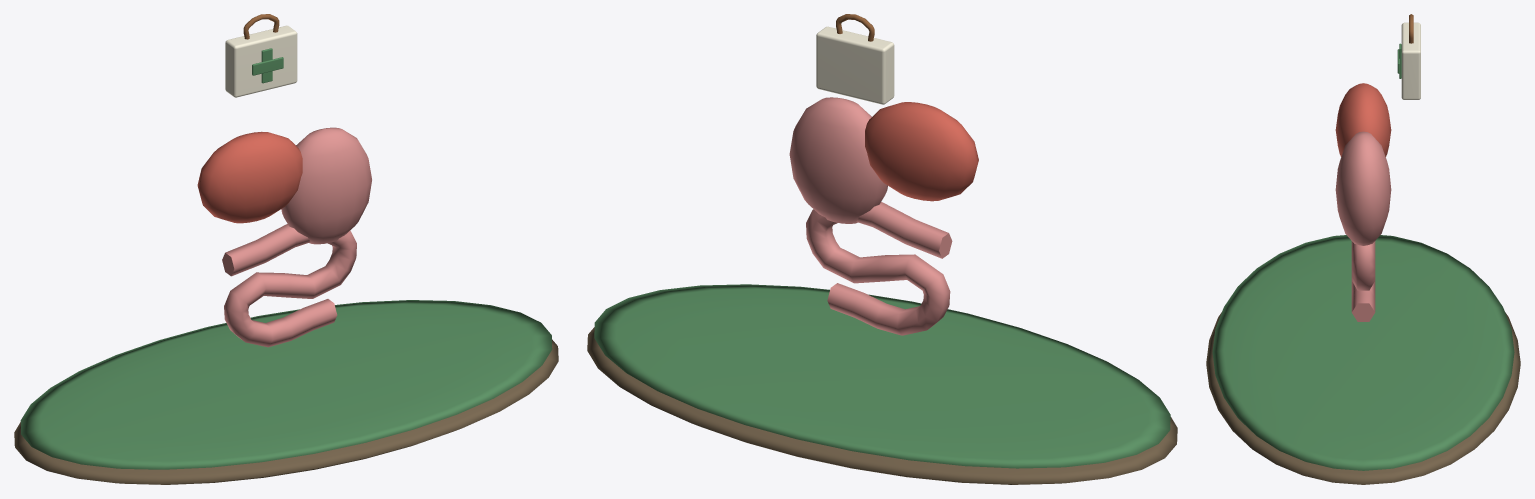
The model's file is complete-third-internal-organs.glb.
3 renders of one model, left to right at view 1: azimuth 30°, elevation 25°; view 2: azimuth 150°, elevation 25°; view 3: azimuth 270°, elevation 25°, orthographic. The views are drawn at different scales.
Parts seen in each view (by area): view 1: complete-third-internal-organs_surface_01, complete-third-internal-organs_surface_03, complete-third-internal-organs_surface_00, complete-third-internal-organs_surface_02, complete-third-internal-organs_surface_04; view 2: complete-third-internal-organs_surface_01, complete-third-internal-organs_surface_03, complete-third-internal-organs_surface_00, complete-third-internal-organs_surface_02, complete-third-internal-organs_surface_04; view 3: complete-third-internal-organs_surface_01, complete-third-internal-organs_surface_03, complete-third-internal-organs_surface_00, complete-third-internal-organs_surface_02, complete-third-internal-organs_surface_04.
Part boxes in pixels (x1,y1,x2,y2): complete-third-internal-organs_surface_01: (20,48,552,469); complete-third-internal-organs_surface_03: (222,127,371,347); complete-third-internal-organs_surface_00: (14,339,558,484); complete-third-internal-organs_surface_02: (197,131,302,223); complete-third-internal-organs_surface_04: (225,25,297,97); complete-third-internal-organs_surface_01: (594,284,1170,468); complete-third-internal-organs_surface_03: (789,97,952,335); complete-third-internal-organs_surface_00: (587,327,1177,484); complete-third-internal-organs_surface_02: (865,102,978,201); complete-third-internal-organs_surface_04: (816,26,894,104); complete-third-internal-organs_surface_01: (1212,43,1514,470); complete-third-internal-organs_surface_03: (1335,131,1391,321); complete-third-internal-organs_surface_00: (1206,312,1520,484); complete-third-internal-organs_surface_02: (1335,83,1391,156); complete-third-internal-organs_surface_04: (1401,22,1420,99).
Size of the model in its own units: 4.56 by 3.18 by 2.5.
